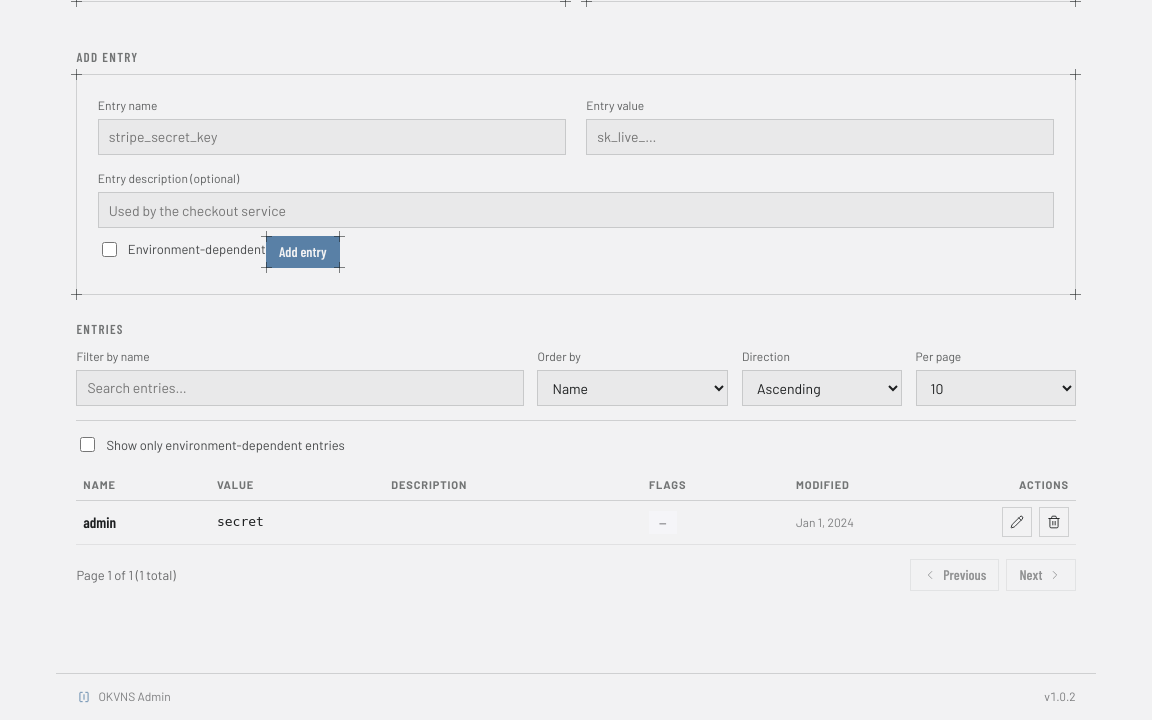
Test case: NamespaceDetailPage › updates an entry description while preserving its value
(page scrolled)
Click the button named "Edit entry admin" at (1017, 522), box [1002,507,1032,537]
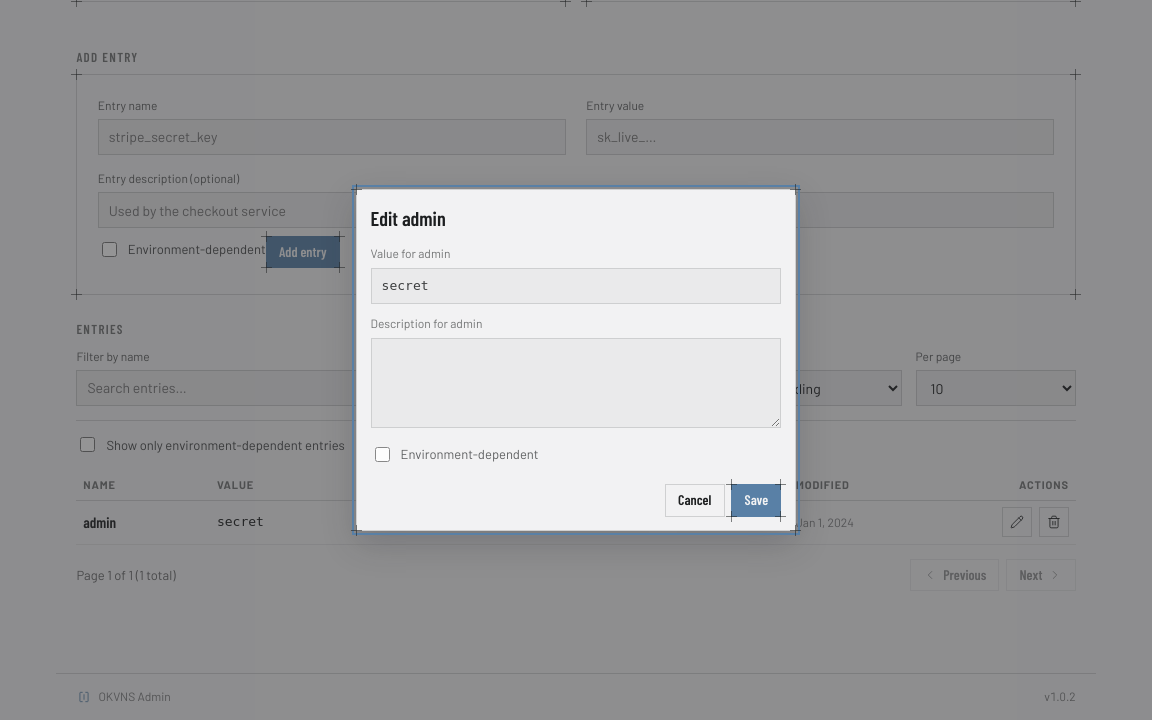
Type "The admin key." into the text box labelled "Description for admin" at (576, 383), box [371,338,781,428]
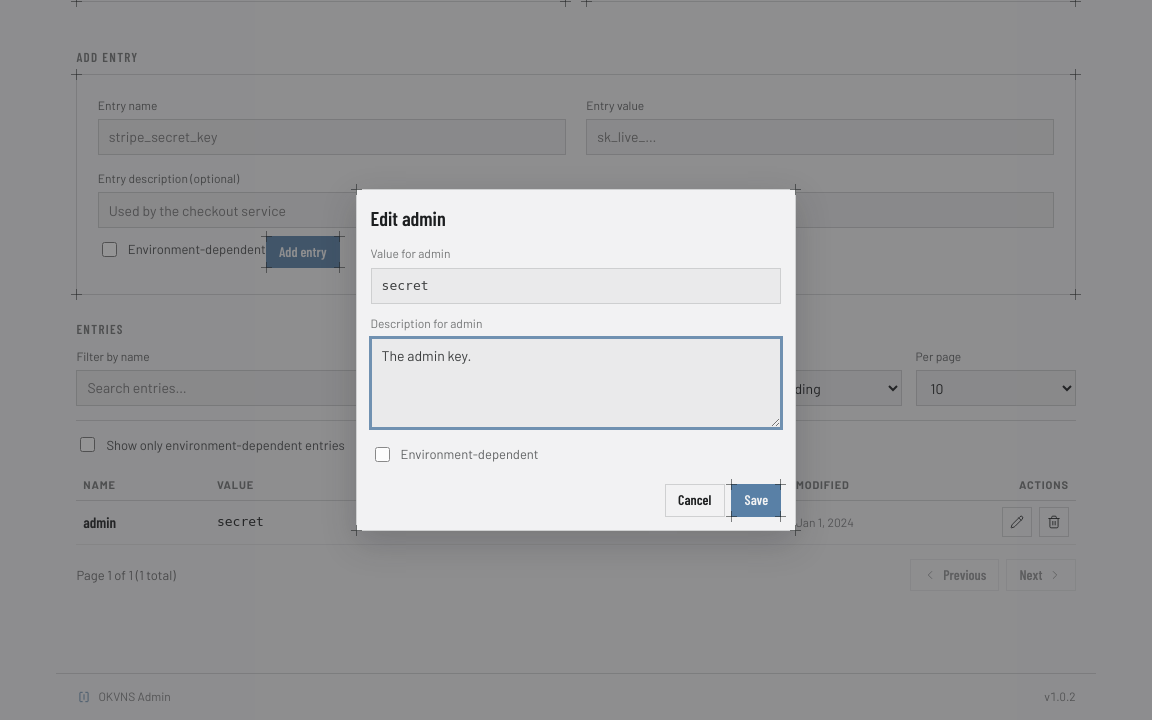
Click the button "Save" at (756, 501), box [731,484,781,517]
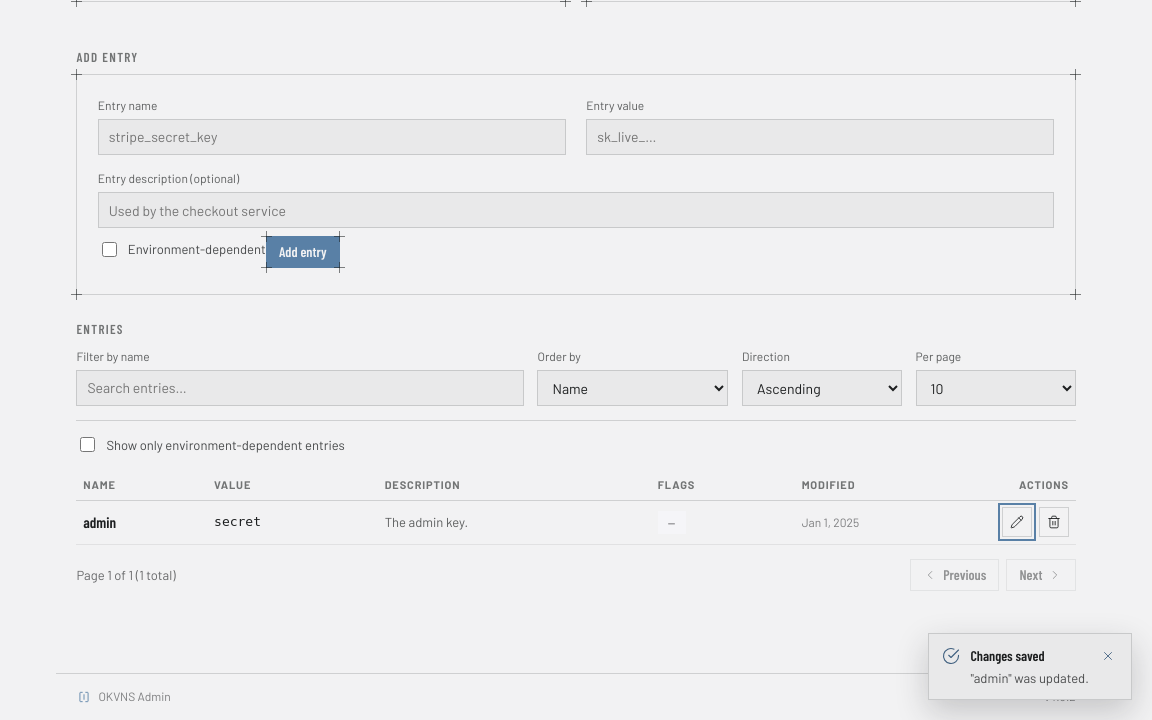
Expected: the text "secret" is shown, [207,500,378,545]
Now the text "The admin key." is shown, box [378,500,651,545]
